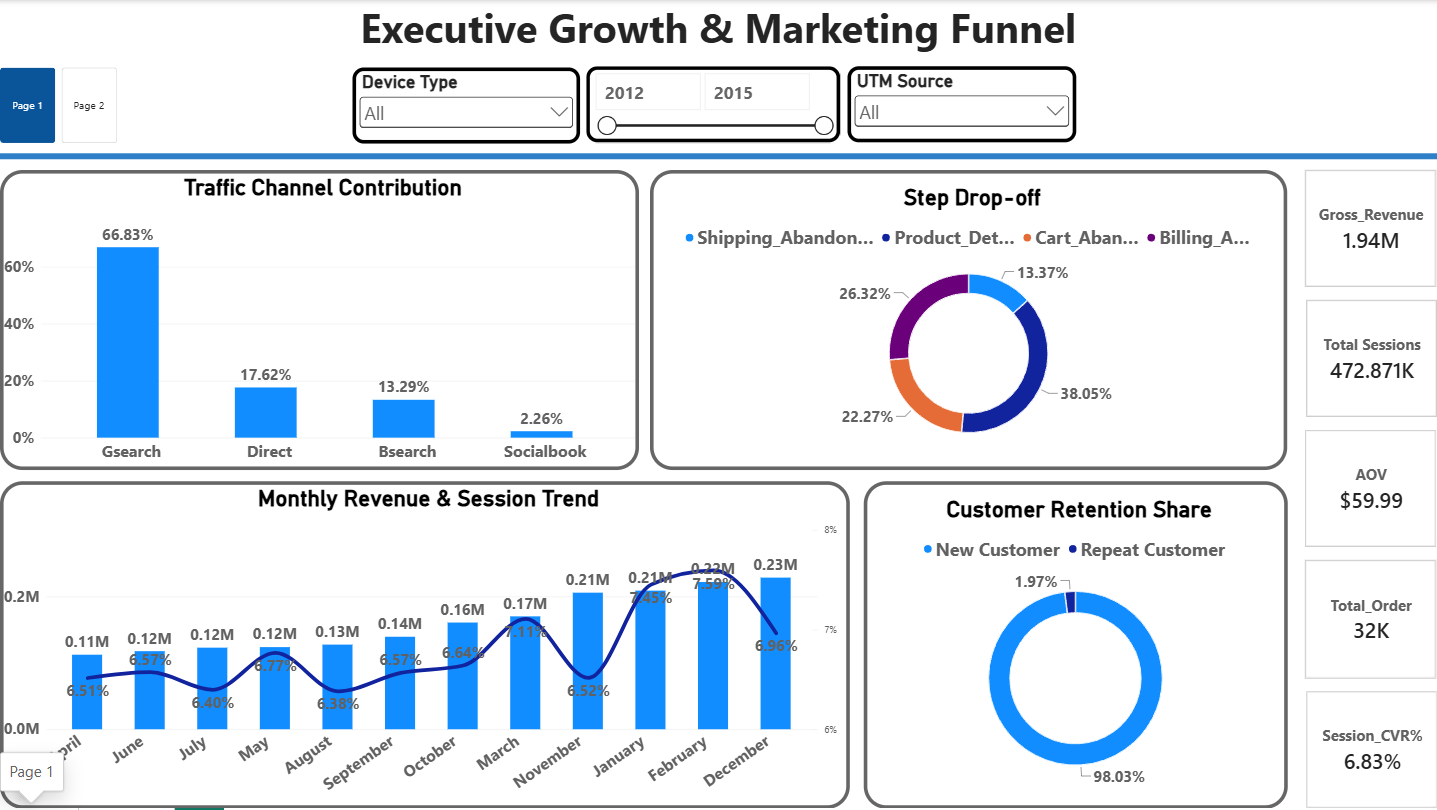

Layout of this report page (visuals, bound fields, positions):
{"tool":"powerbi","page":{"name":"Page 1","canvas":[1920,1080],"ordinal":0},"visuals":[{"type":"lineStackedColumnComboChart","title":"Traffic Channel Contribution","fields":{"Category":["vw_fact_sessions.utm_source"],"Series":["vw_custom_hourly_conversion.total_sessions"],"Y":["ALL_MEASURES.Traffic_Share_%"]},"box":[0,227.1,853.3,400.7],"z":0},{"type":"textbox","box":[0,0,1918.6,75.1],"z":1000},{"type":"cardVisual","fields":{"Data":["CountNonNull(vw_custom_hourly_conversion.total_sessions)"]},"box":[1744.9,400.7,174.8,156.4],"z":2000},{"type":"cardVisual","fields":{"Data":["ALL_MEASURES.Total_Order"]},"box":[1743.2,747.7,175.3,158.6],"z":3000},{"type":"cardVisual","fields":{"Data":["ALL_MEASURES.Session_CVR%"]},"box":[1744.9,923.3,175,156.7],"z":4000},{"type":"cardVisual","fields":{"Data":["ALL_MEASURES.Gross_Revenue"]},"box":[1743.2,227.1,175,156.7],"z":5000},{"type":"cardVisual","fields":{"Data":["ALL_MEASURES.Avg_Order_Value"]},"box":[1743.2,574.1,175,156.7],"z":6000},{"type":"pieChart","title":"Step Drop-off","fields":{"Y":["ALL_MEASURES.Shipping_Abandonment_%","ALL_MEASURES.Product_Detail_Abandonment_%","ALL_MEASURES.Cart_Abandonment_%","ALL_MEASURES.Billing_Abandonment_%"]},"box":[868.3,227.1,851.6,400.7],"z":7000},{"type":"lineClusteredColumnComboChart","title":"Monthly Revenue & Session Trend","fields":{"Category":["dim_date.month_name"],"Y":["ALL_MEASURES.Gross_Revenue"],"Y2":["ALL_MEASURES.Session_CVR%"]},"box":[0,642.9,1135.4,437.5],"z":8000},{"type":"pieChart","title":"Customer Retention Share","fields":{"Category":["vw_custom_customer_cohorts.customer_order_type"],"Y":["Sum(vw_custom_customer_cohorts.order_revenue)"]},"box":[1153.8,642.9,566.1,437.5],"z":9000},{"type":"slicer","fields":{"Values":["dim_date.date_id.Variation.Date Hierarchy.Year"]},"box":[783.1,88.5,339,101.9],"z":10000},{"type":"slicer","fields":{"Values":["vw_fact_sessions.utm_source"]},"box":[1132.1,88.5,305.6,101.9],"z":11000},{"type":"slicer","fields":{"Values":["vw_fact_sessions.device_type"]},"box":[470.9,90.2,303.9,101.9],"z":12000},{"type":"pageNavigator","box":[0,90.2,157,101.9],"z":13000},{"type":"shape","box":[0,190.4,1919.6,36.8],"z":13001}]}

Visuals, with their boxes on the page's 1920x1080 design canvas (x1, y1, x2, y2). These are canvas units, not pixel positions in the 1437x810 screenshot, which may show the page scaled, cropped or inside an application window:
"Traffic Channel Contribution" lineStackedColumnComboChart: 0/227/853/628
textbox: 0/0/1919/75
cardVisual - CountNonNull(vw_custom_hourly_conversion.total_sessions): 1745/401/1920/557
cardVisual - ALL_MEASURES.Total_Order: 1743/748/1918/906
cardVisual - ALL_MEASURES.Session_CVR%: 1745/923/1920/1080
cardVisual - ALL_MEASURES.Gross_Revenue: 1743/227/1918/384
cardVisual - ALL_MEASURES.Avg_Order_Value: 1743/574/1918/731
"Step Drop-off" pieChart: 868/227/1720/628
"Monthly Revenue & Session Trend" lineClusteredColumnComboChart: 0/643/1135/1080
"Customer Retention Share" pieChart: 1154/643/1720/1080
slicer - dim_date.date_id.Variation.Date Hierarchy.Year: 783/88/1122/190
slicer - vw_fact_sessions.utm_source: 1132/88/1438/190
slicer - vw_fact_sessions.device_type: 471/90/775/192
pageNavigator: 0/90/157/192
shape: 0/190/1920/227
